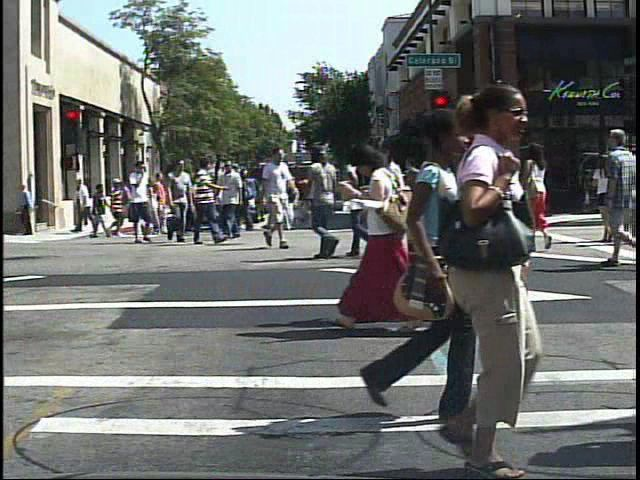person: (406, 81, 567, 480), (334, 137, 444, 341), (375, 128, 426, 334), (598, 115, 639, 271), (466, 134, 515, 262), (299, 133, 347, 262), (339, 147, 386, 262), (255, 142, 297, 251), (184, 154, 223, 247), (125, 155, 162, 246), (163, 157, 197, 248), (526, 139, 552, 254), (591, 150, 613, 242), (104, 176, 128, 241), (76, 182, 96, 231)
